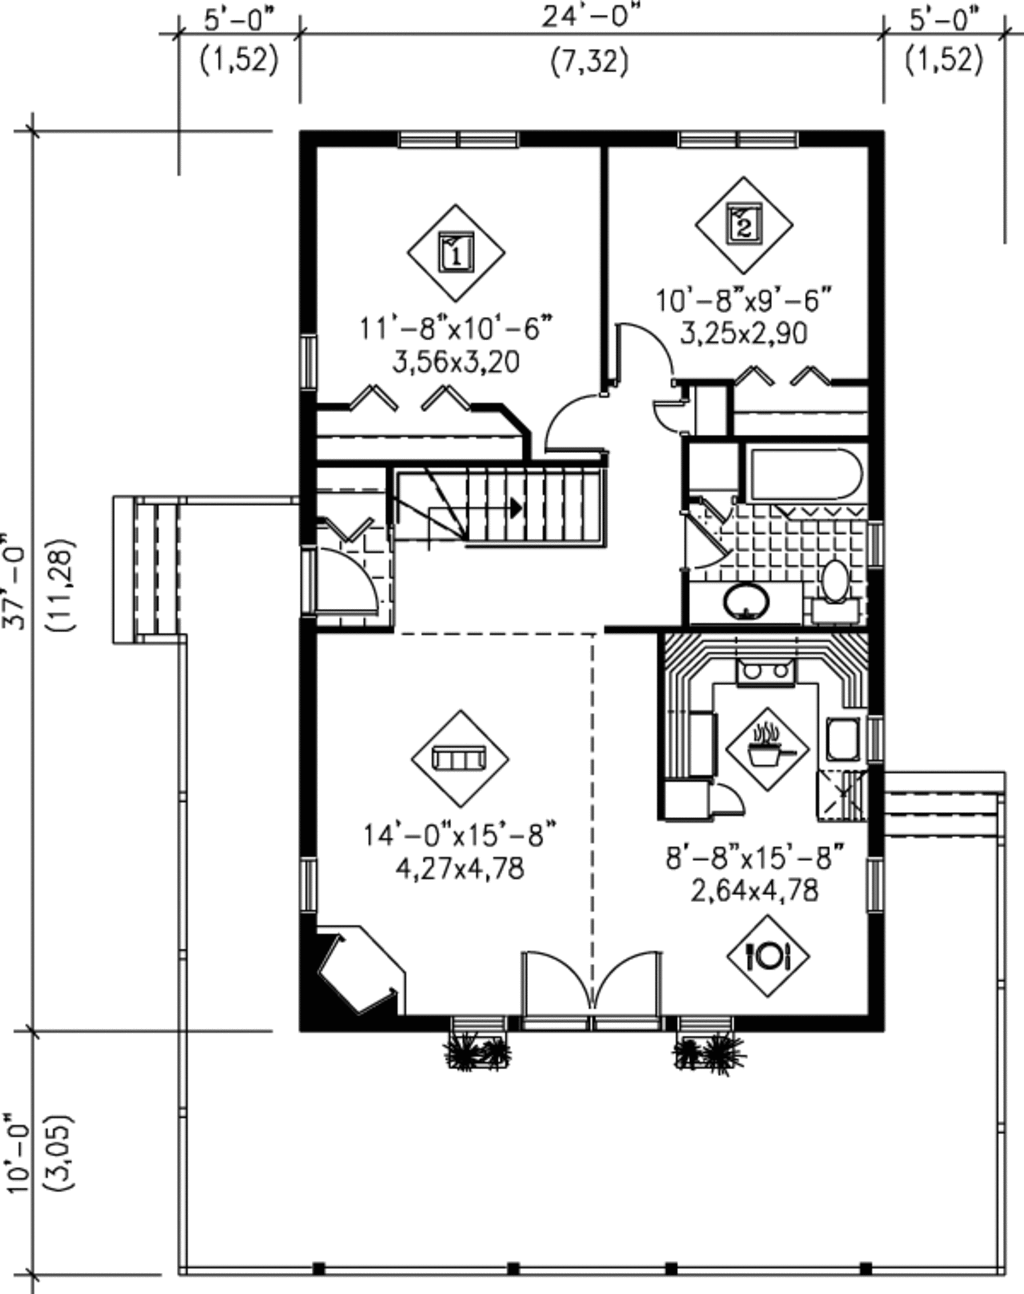door: (516, 948, 667, 1019), (316, 548, 384, 622), (612, 318, 677, 389), (541, 394, 615, 453)
large_sink: (808, 563, 860, 629)
small_sink: (688, 583, 807, 630)
stairs: (381, 461, 610, 549)
tub: (737, 441, 873, 507)
windows: (671, 122, 800, 159), (396, 126, 538, 155), (290, 326, 322, 396), (862, 852, 889, 915), (293, 855, 319, 913)
